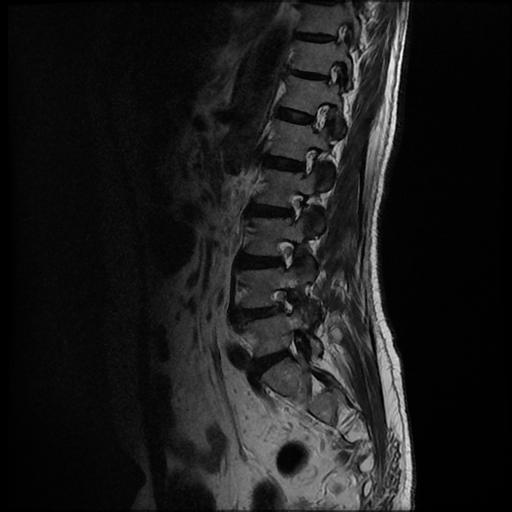LFS0: (269, 231, 303, 276), (290, 138, 323, 183), (279, 185, 309, 229)
LFS1: (265, 280, 307, 321)
